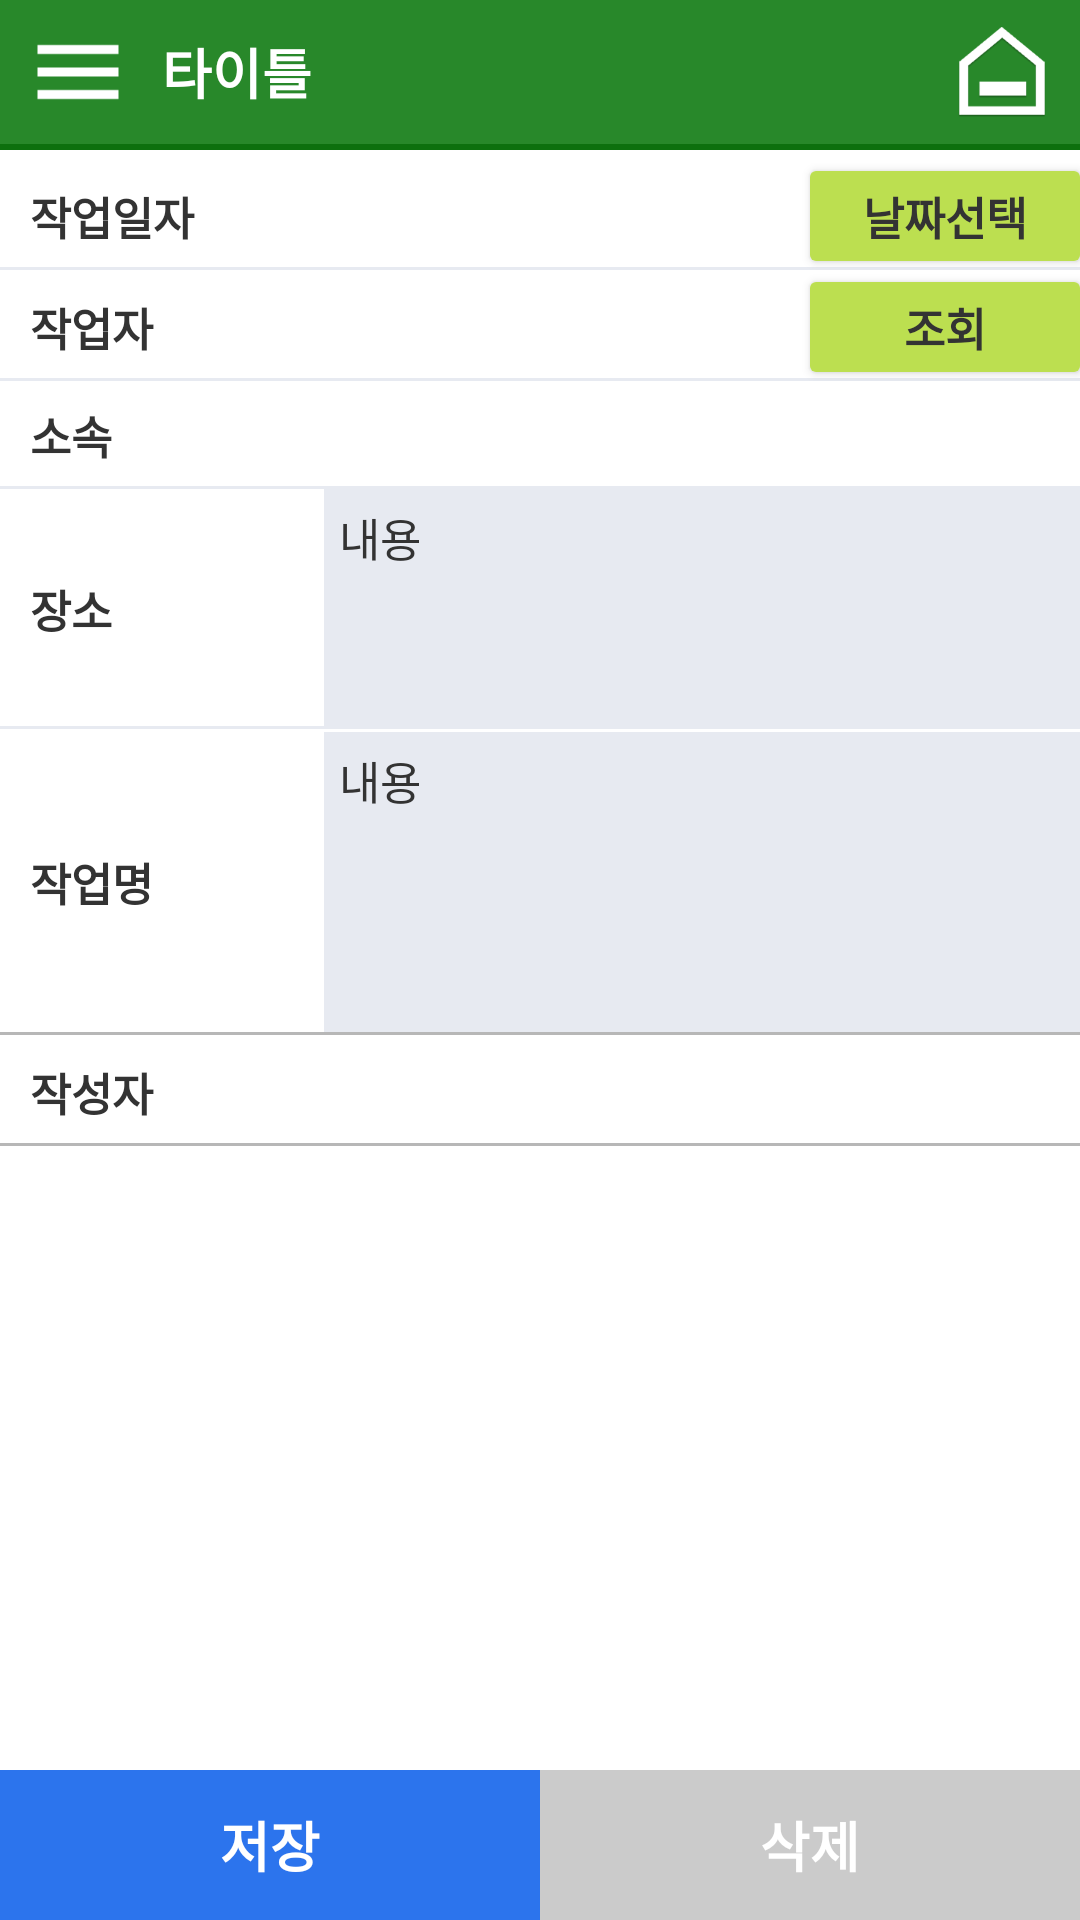

Named icons in this screenshot (1080*1920) and their bounding boxes, (x1, y1, x2, y2):
menu: (37, 44, 119, 100)
top home: (959, 27, 1045, 116)
